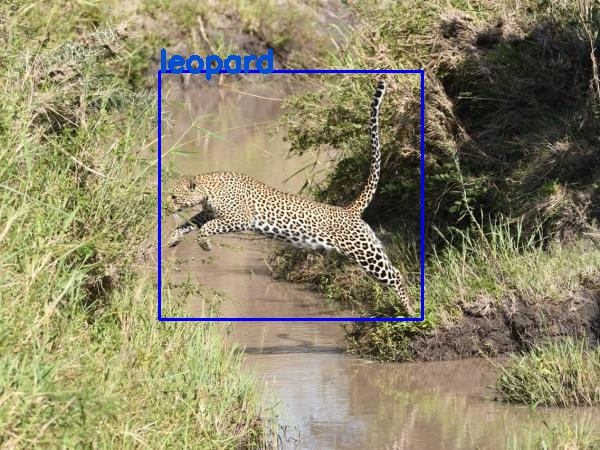leopard: (159, 70, 422, 318)
